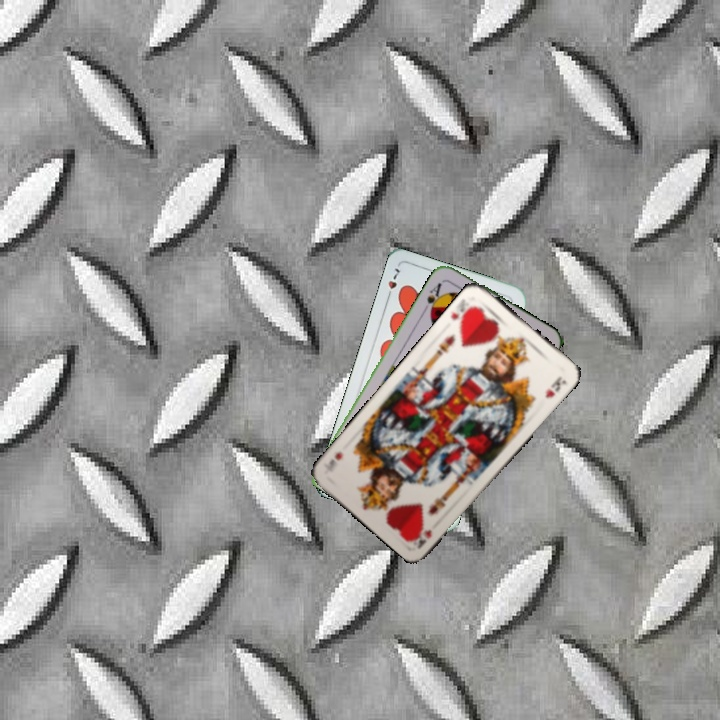H7: (383, 264, 402, 302)
HK: (446, 301, 478, 326), (413, 525, 434, 551)
SA: (423, 278, 446, 317)
